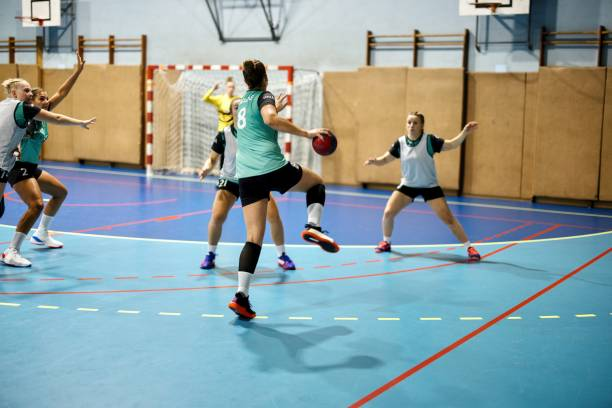ball: (312, 128, 338, 156)
player: (230, 58, 342, 319), (363, 111, 482, 264), (3, 52, 87, 267), (198, 92, 295, 270), (0, 78, 96, 221), (200, 75, 241, 177)
